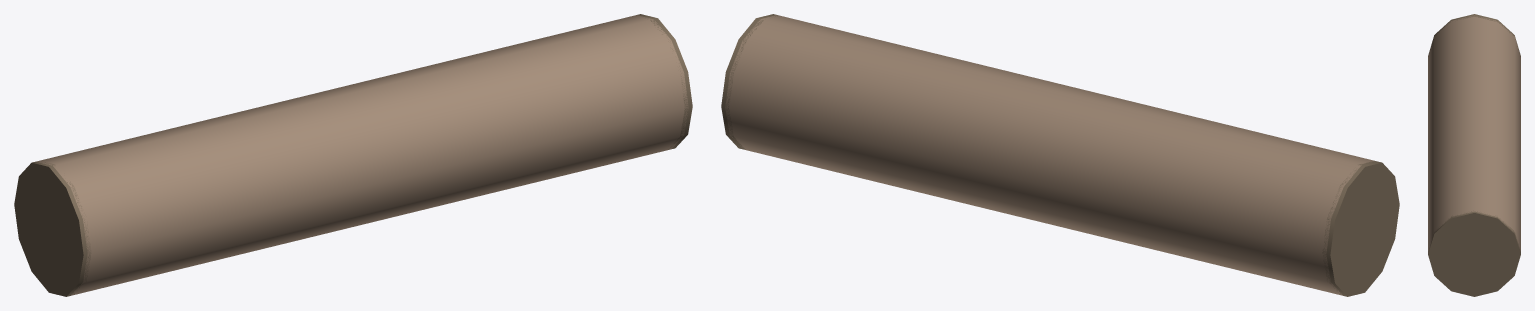
The model's file is fallen_log.glb.
The picture shows the model from 3 angles, left to right: view 1: azimuth 30°, elevation 25°; view 2: azimuth 150°, elevation 25°; view 3: azimuth 270°, elevation 25°; orthographic projection. The views are drawn at different scales.
Parts seen in each view (by area): view 1: log, end_l, end_r; view 2: log, end_l, end_r; view 3: log, end_r, end_l.
Part boxes in pixels (left/top/right/bottom): log: left=36, top=15, right=688, bottom=295; end_l: left=14, top=161, right=91, bottom=296; end_r: left=637, top=14, right=692, bottom=149; log: left=725, top=15, right=1375, bottom=295; end_l: left=1322, top=160, right=1399, bottom=296; end_r: left=721, top=14, right=779, bottom=149; log: left=1428, top=15, right=1520, bottom=252; end_r: left=1428, top=210, right=1520, bottom=296; end_l: left=1428, top=14, right=1520, bottom=56.
Bounding box in the file's own units: 1.52 × 0.3 × 0.3.
